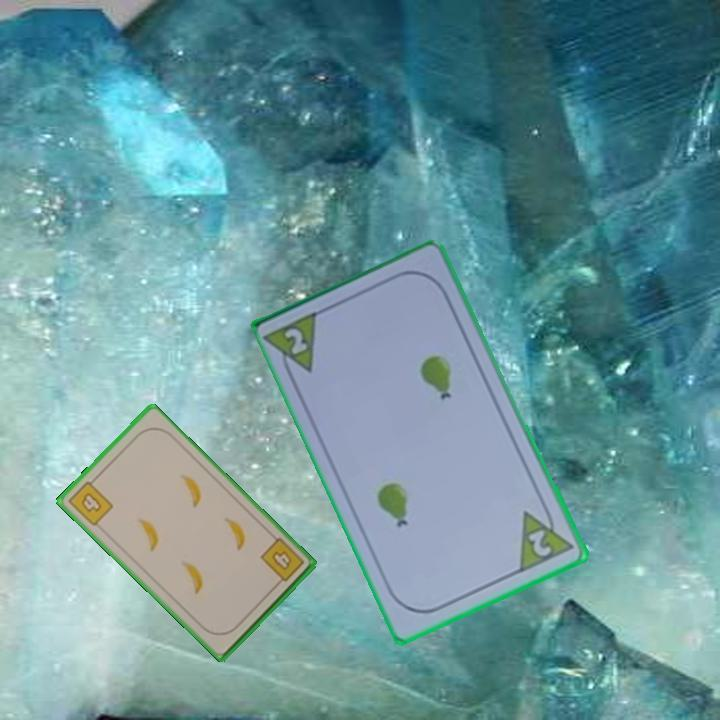2p: (516, 500, 578, 576), (281, 324, 311, 358)
4b: (64, 473, 116, 529), (256, 534, 307, 590)
